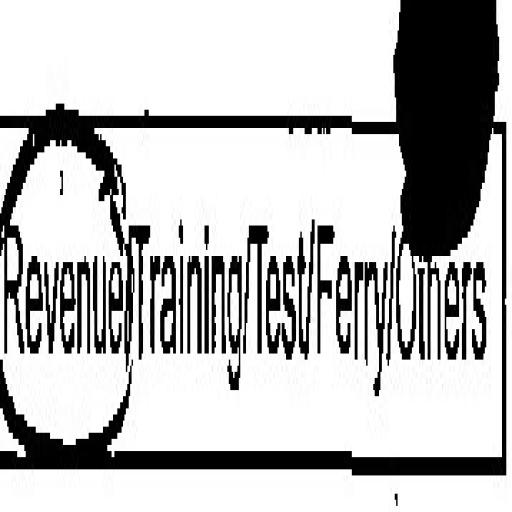check: (0, 17, 132, 512)
